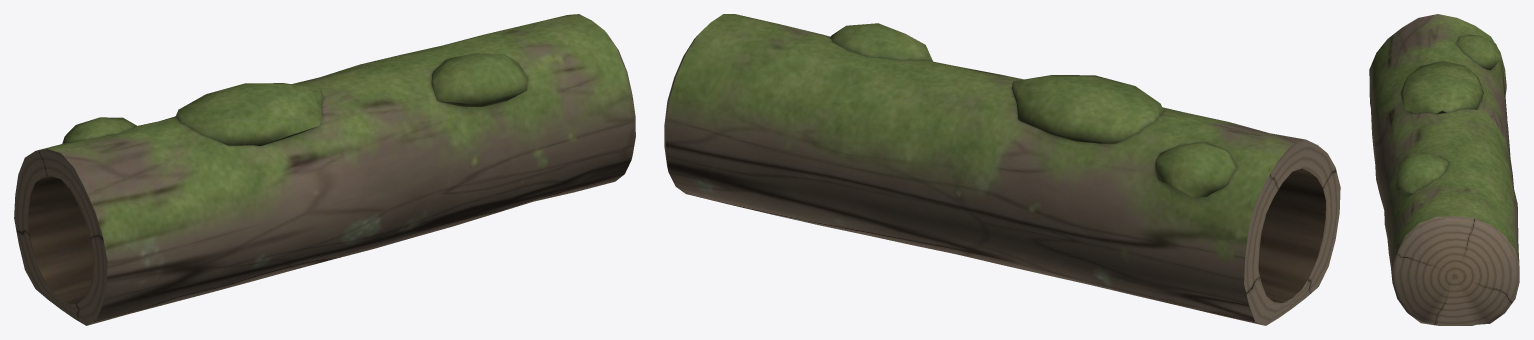
The model's file is fm_log_mossy_fallen_b.glb.
3 renders of one model, left to right at view 1: azimuth 30°, elevation 25°; view 2: azimuth 150°, elevation 25°; view 3: azimuth 270°, elevation 25°, orthographic. The views are drawn at different scales.
Visible parts, largest first — view 1: fm_log_mossy_fallen_b; view 2: fm_log_mossy_fallen_b; view 3: fm_log_mossy_fallen_b.
Part boxes in pixels (x1=…): fm_log_mossy_fallen_b: x1=14, y1=14, x2=635, y2=325; fm_log_mossy_fallen_b: x1=664, y1=14, x2=1340, y2=325; fm_log_mossy_fallen_b: x1=1369, y1=14, x2=1519, y2=325.
Bounding box in the file's own units: 1.62 × 0.471 × 0.5177.
Materials: 1 (1 with a texture image).
